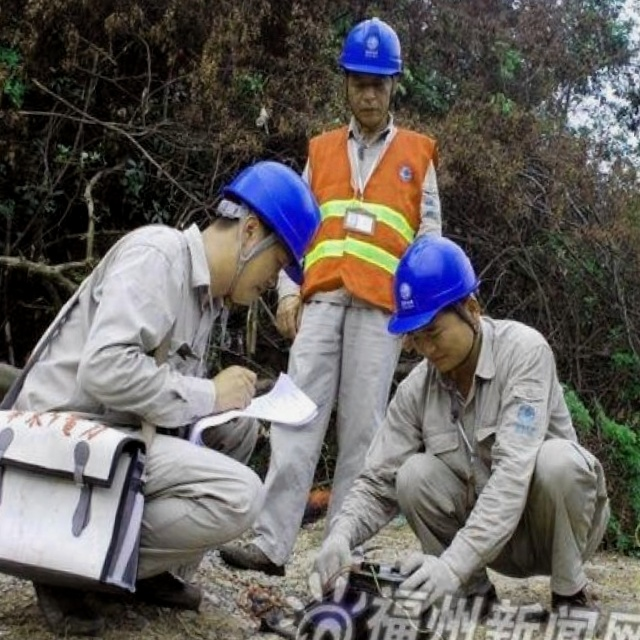Con_Chaleco: (300, 119, 428, 312)
